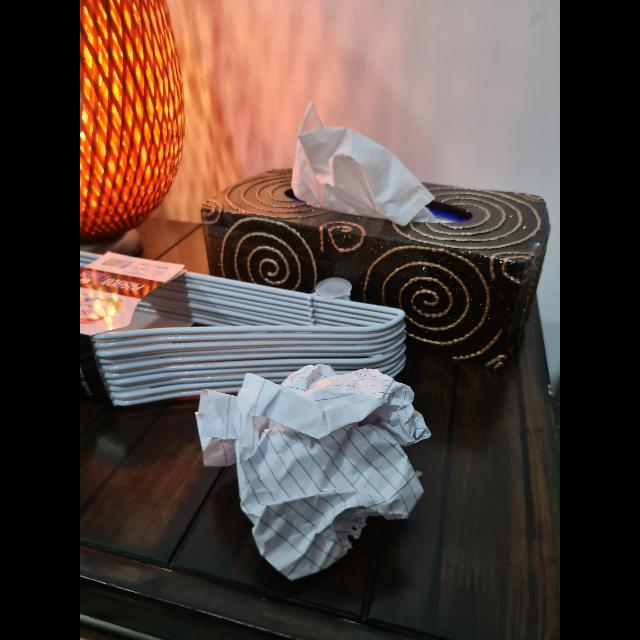scrap_paper: (196, 364, 434, 574)
